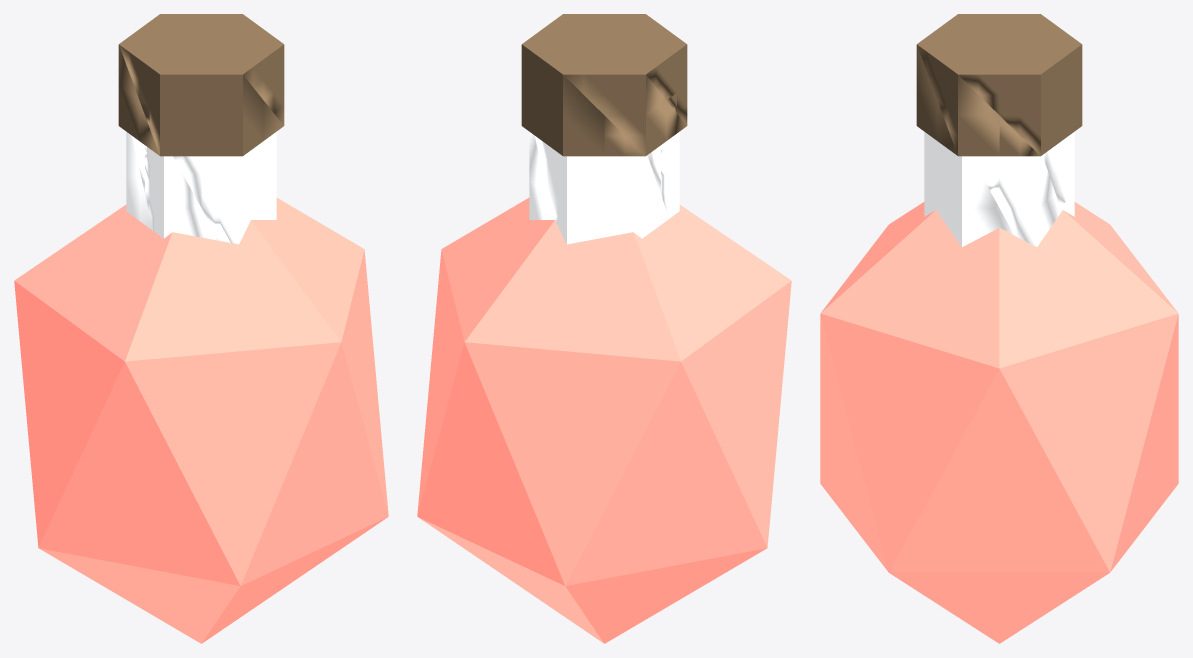
Rendered from potion_health.glb.
3 views of the same model, side by side, from view 1: azimuth 30°, elevation 25°; view 2: azimuth 150°, elevation 25°; view 3: azimuth 270°, elevation 25° (orthographic).
Visible parts, largest first — view 1: PotionHealth; view 2: PotionHealth; view 3: PotionHealth.
Part boxes in pixels (<box>): PotionHealth: <box>14,14,388,643</box>; PotionHealth: <box>417,14,791,643</box>; PotionHealth: <box>820,14,1178,643</box>.
Size of the model in its own units: 0.5009 by 0.88 by 0.4764.
